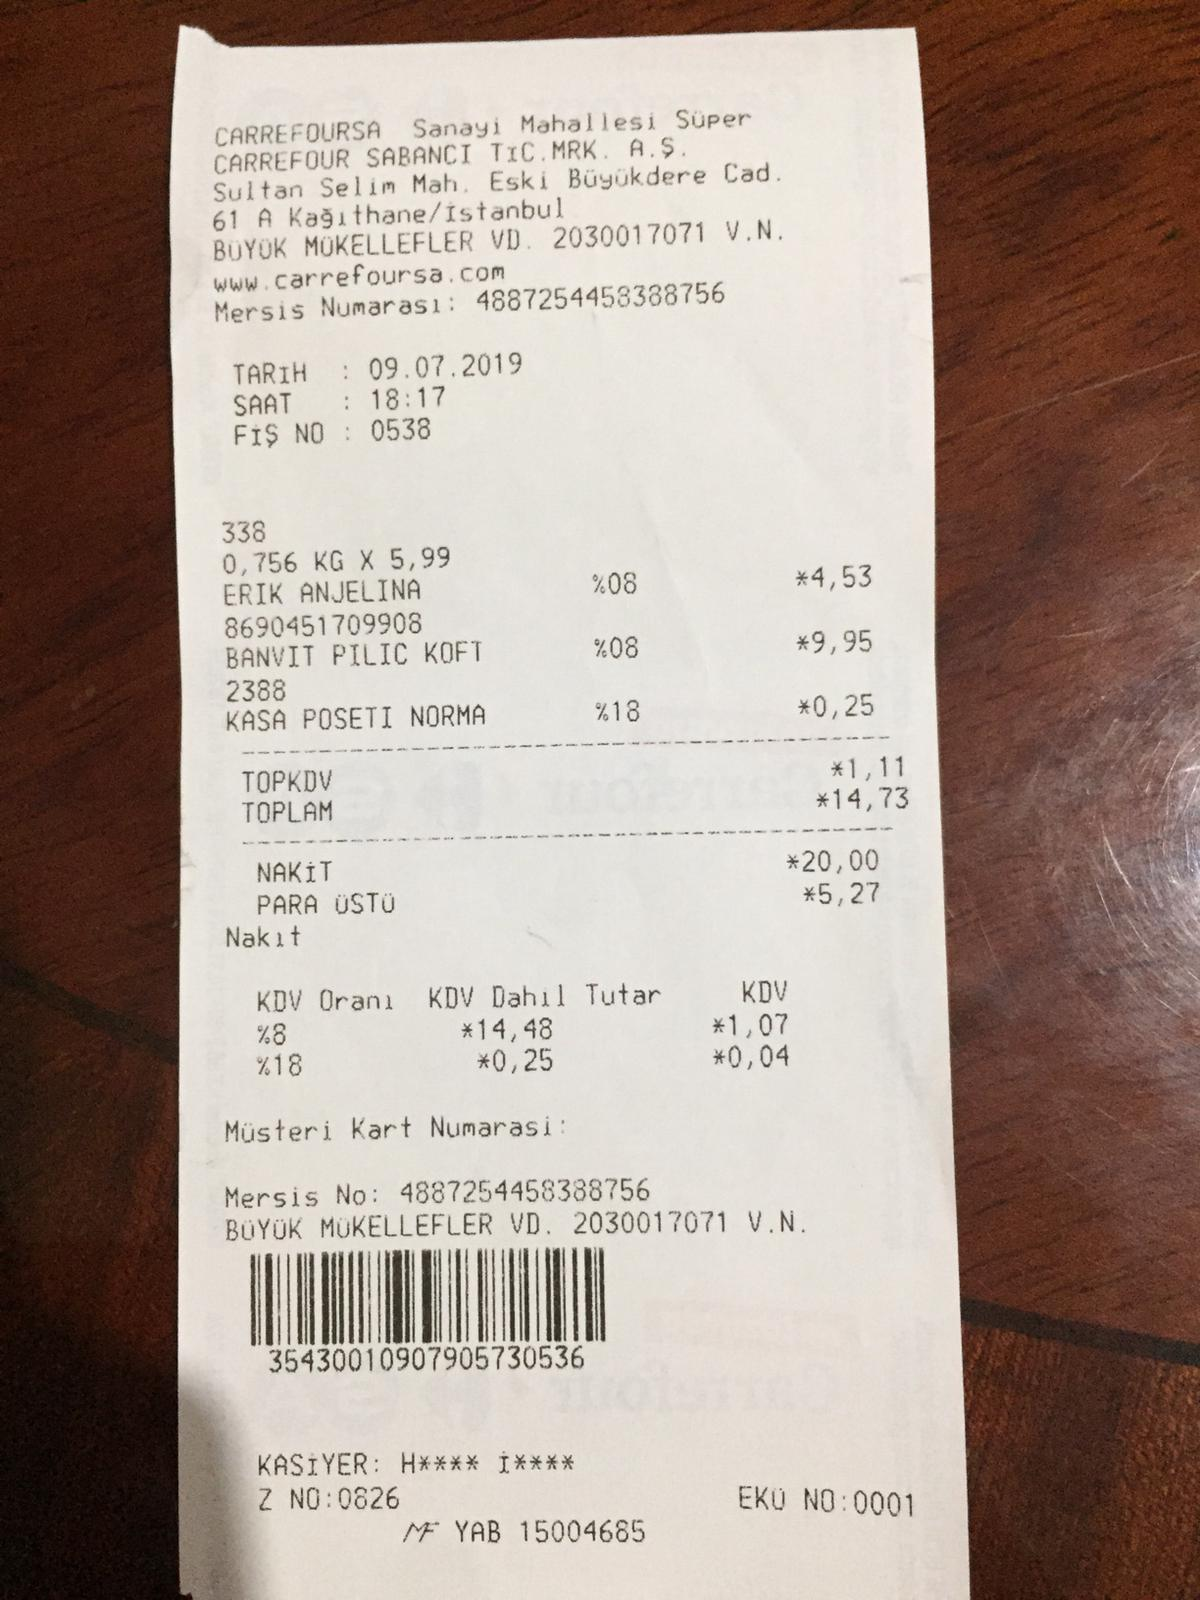total: (235, 784, 941, 832)
